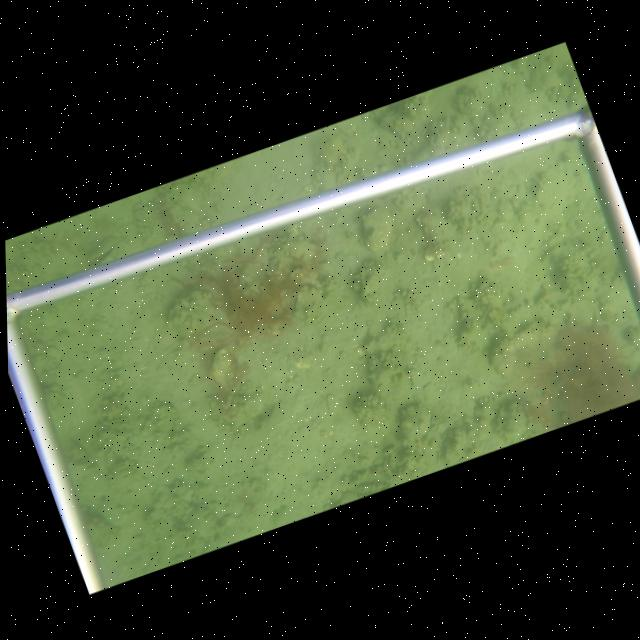Oyster-Closed: (360, 271, 383, 308)
Oyster-Indeterminate: (361, 204, 393, 253), (416, 209, 457, 247), (211, 347, 234, 393)
Oyster-Open: (85, 237, 119, 266)
